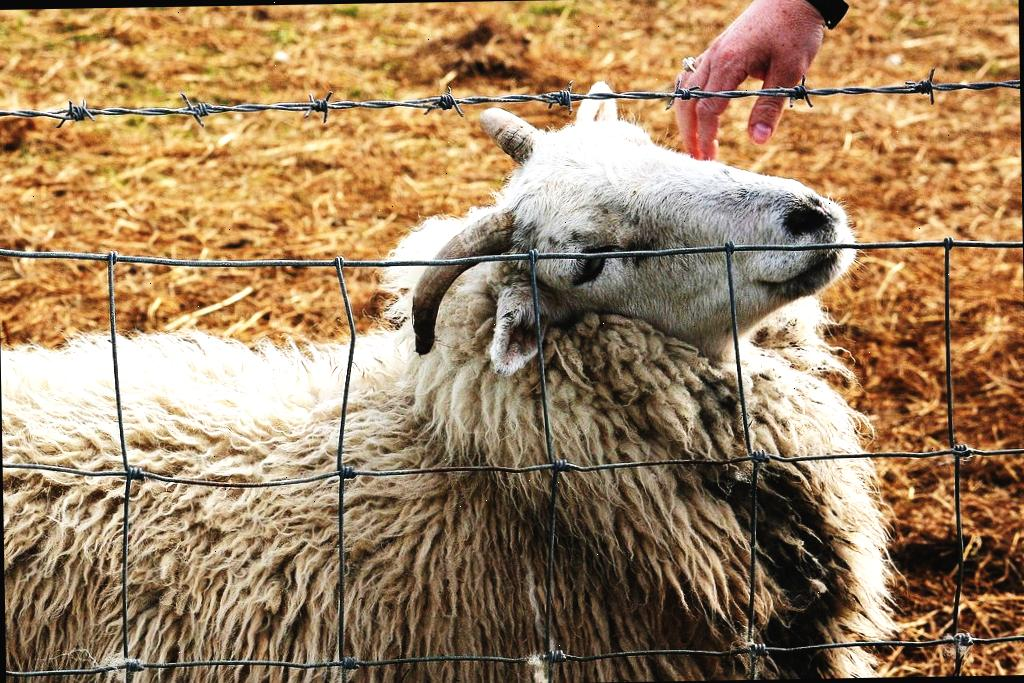Sheep: (0, 71, 906, 683)
